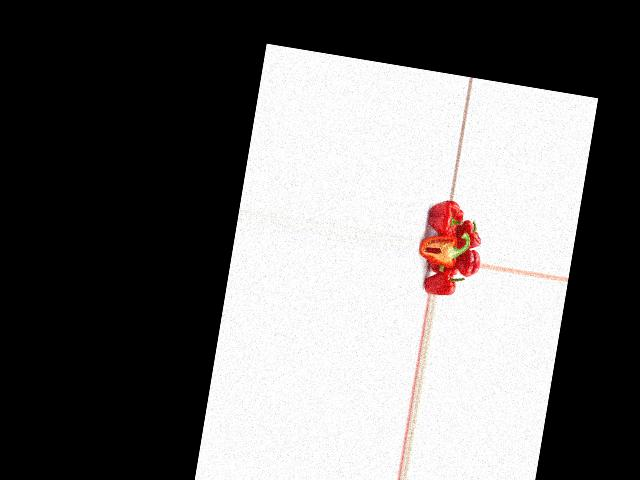bell_pepper: (455, 218, 484, 251)
